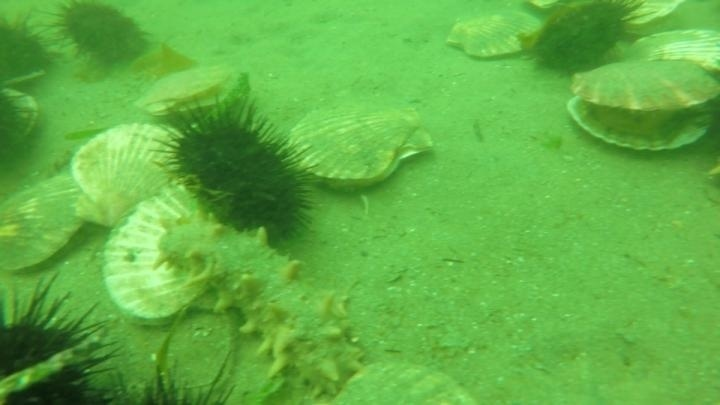echinus: (154, 95, 321, 248), (1, 275, 125, 405), (522, 1, 646, 79), (52, 1, 151, 71), (111, 361, 227, 405), (1, 12, 55, 94)
holothurian: (156, 214, 366, 400)
scallop: (97, 193, 220, 330), (562, 54, 720, 158), (279, 96, 437, 195), (64, 120, 180, 233), (1, 167, 90, 281), (134, 61, 248, 126), (337, 354, 480, 405), (442, 4, 546, 64), (630, 24, 720, 84), (1, 83, 44, 183), (618, 1, 690, 38), (1, 90, 45, 141)
starfish: (128, 37, 200, 82)
